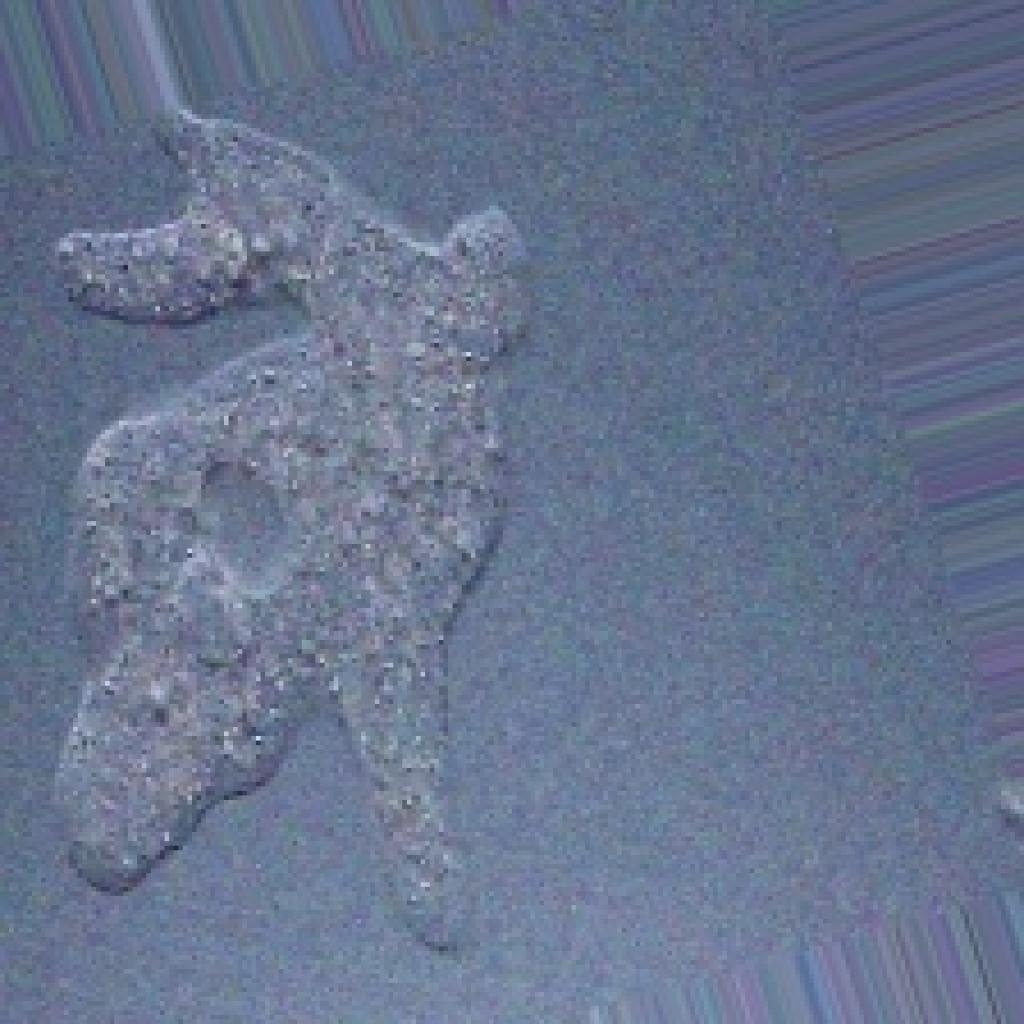Amoeba: (41, 100, 540, 951)
